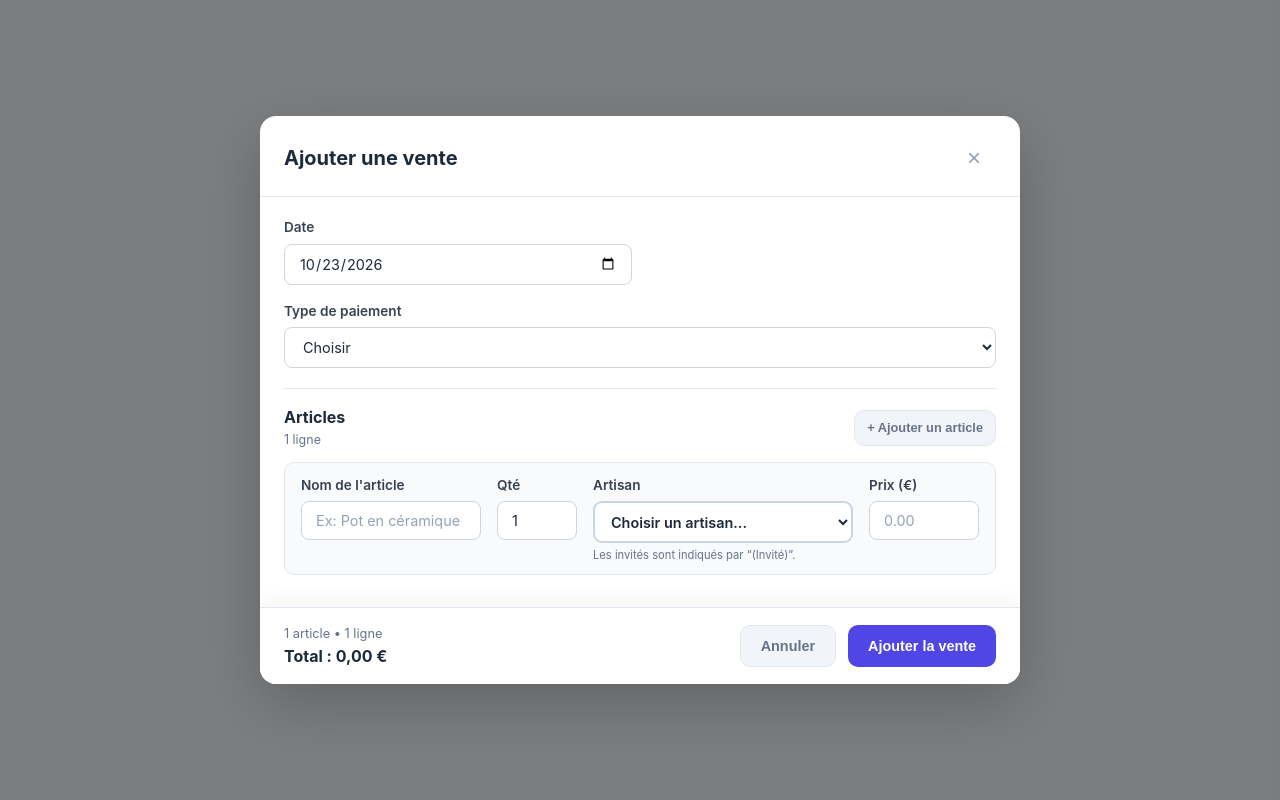
Test: VenteFormModal › affiche le total et place le focus sur un nouvel article
Type "Bol" into the field with id "create-vente-article-name-0" at coordinates (391, 521), box [301,501,481,540]
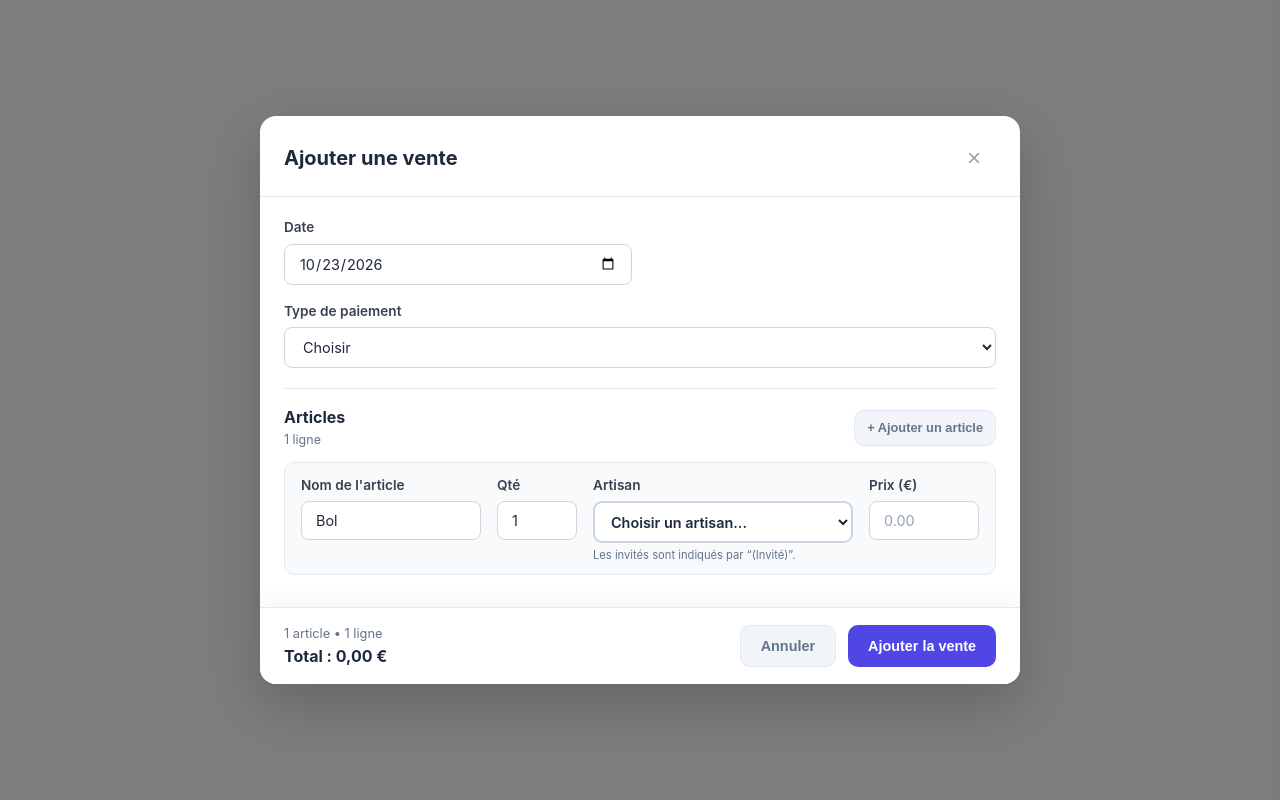
Replace the text in the number field with id "create-vente-article-qty-0" with "2" at coordinates (537, 521), box [497,501,577,540]
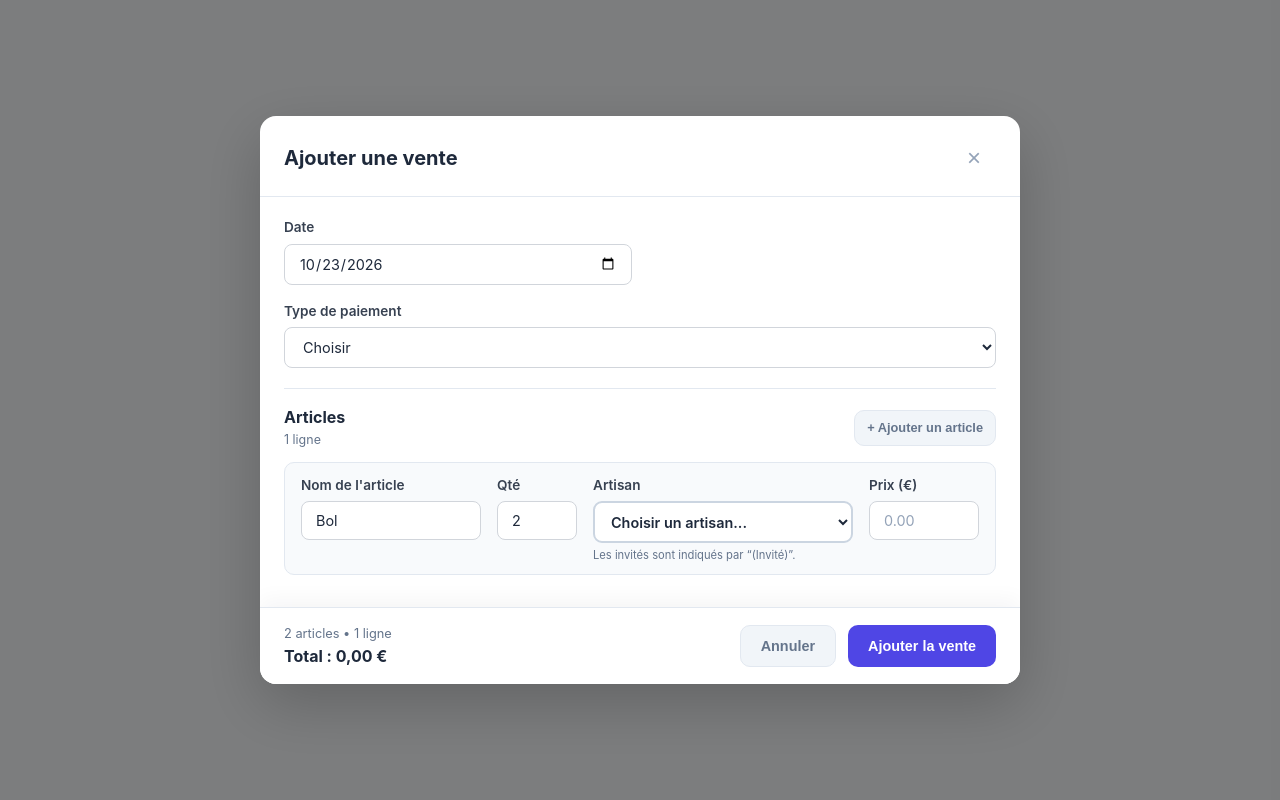
Type "12" into the number field with id "create-vente-article-price-0" at coordinates (924, 521), box [869,501,979,540]
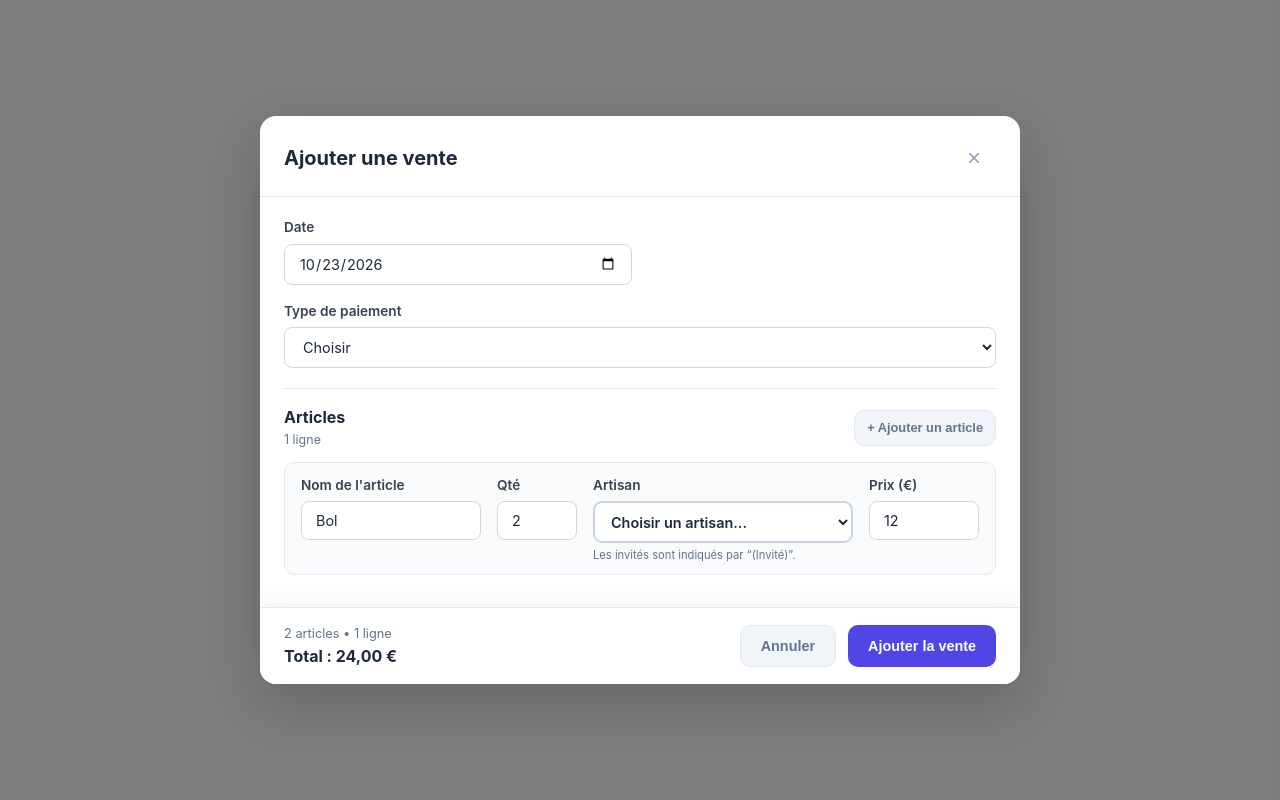
expect the element with class "sale-summary" shows "2 articles": met, box [284,626,392,641]
expect the element with class "sale-summary" reads "2 articles • 1 ligne Total : 24,00 €": met, box [284,646,397,666]
Click the button "+ Ajouter un article" at coordinates (925, 428), box [854,410,996,446]
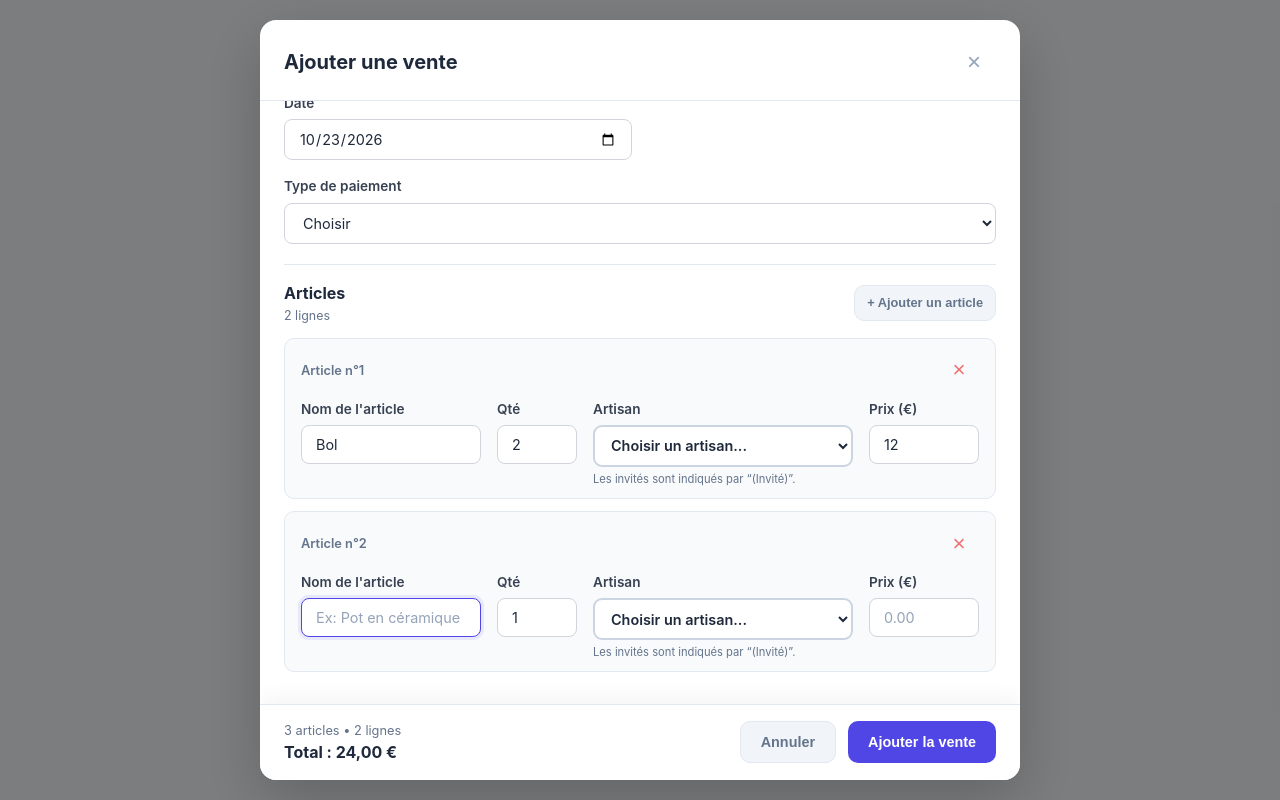
expect the number of elements with class "article-row" is 2: met, box [284,338,996,499]; [284,511,996,672]
expect the element with class "sale-summary" shows "2 lignes": met, box [284,723,401,738]
